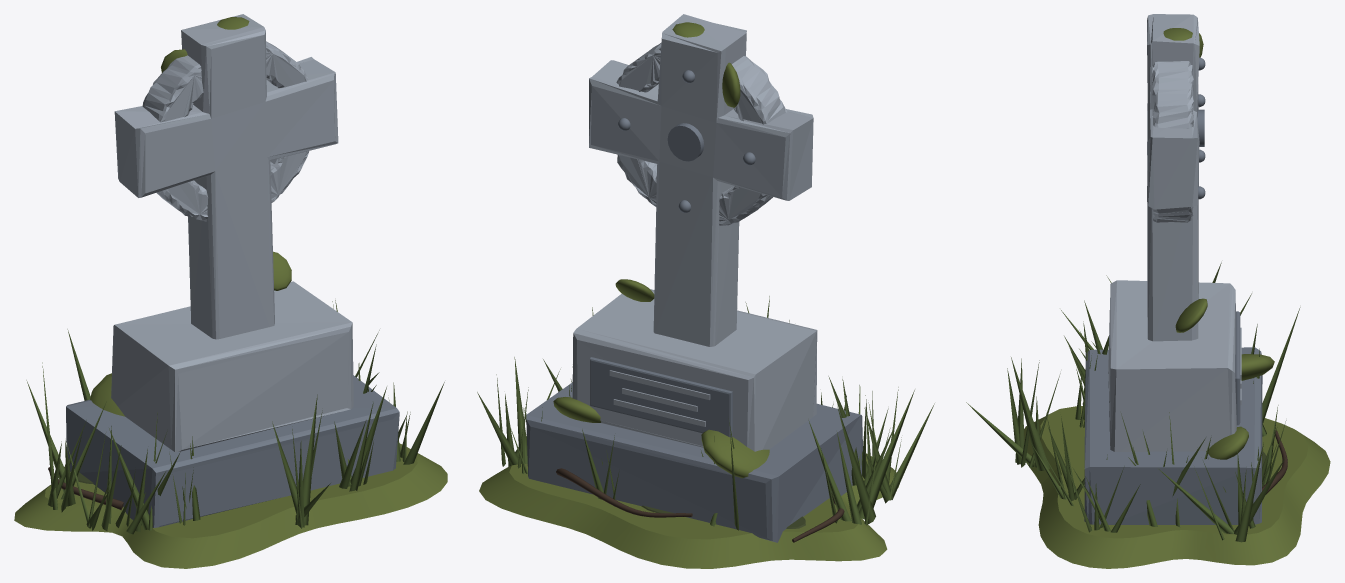
The model's file is BAYOU_GRAVESTONE_B.glb.
3 renders of one model, left to right at view 1: azimuth 30°, elevation 25°; view 2: azimuth 150°, elevation 25°; view 3: azimuth 270°, elevation 25°, orthographic. The views are drawn at different scales.
Visible parts, largest first — view 1: Cross_Body, Plinth_Upper, Plinth_Lower, Ground, Grass, Cross_Ring, Moss; view 2: Cross_Body, Plinth_Lower, Plinth_Upper, Ground, Grass, Cross_Ring, Plaque, Moss, Roots, Engraving_Text (×2), Cross_Boss; view 3: Plinth_Upper, Ground, Plinth_Lower, Cross_Body, Grass, Cross_Ring, Moss, Plaque.
Boxes of the visible parts, left/top/right/bottom form: Cross_Body: left=114, top=14, right=338, bottom=339; Plinth_Upper: left=111, top=281, right=353, bottom=452; Plinth_Lower: left=66, top=375, right=399, bottom=527; Ground: left=14, top=443, right=447, bottom=568; Grass: left=26, top=300, right=444, bottom=534; Cross_Ring: left=142, top=41, right=309, bottom=221; Moss: left=90, top=17, right=291, bottom=416; Cross_Body: left=589, top=14, right=813, bottom=346; Plinth_Lower: left=526, top=382, right=862, bottom=542; Plinth_Upper: left=572, top=289, right=817, bottom=451; Ground: left=479, top=453, right=899, bottom=568; Grass: left=477, top=296, right=934, bottom=530; Cross_Ring: left=616, top=42, right=787, bottom=225; Plaque: left=590, top=357, right=732, bottom=437; Moss: left=553, top=22, right=769, bottom=478; Roots: left=556, top=468, right=844, bottom=542; Engraving_Text (×2): left=609, top=370, right=710, bottom=426; Cross_Boss: left=667, top=123, right=704, bottom=161; Plinth_Upper: left=1108, top=280, right=1236, bottom=451; Ground: left=1024, top=406, right=1330, bottom=568; Plinth_Lower: left=1084, top=347, right=1262, bottom=524; Cross_Body: left=1147, top=14, right=1199, bottom=341; Grass: left=966, top=262, right=1300, bottom=542; Cross_Ring: left=1152, top=61, right=1193, bottom=222; Moss: left=1163, top=28, right=1274, bottom=459; Plaque: left=1235, top=311, right=1240, bottom=425.
Size of the model in its own units: 4.58 by 5.37 by 3.92.
